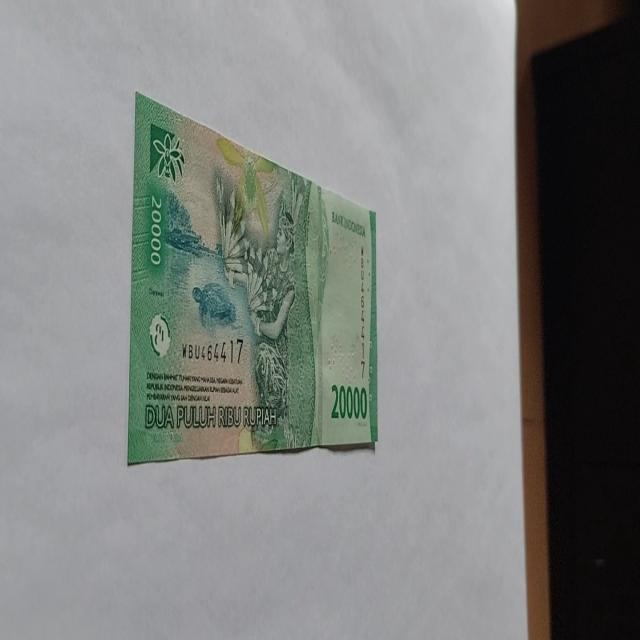dua puluh ribu rupiah: (126, 90, 380, 467)
